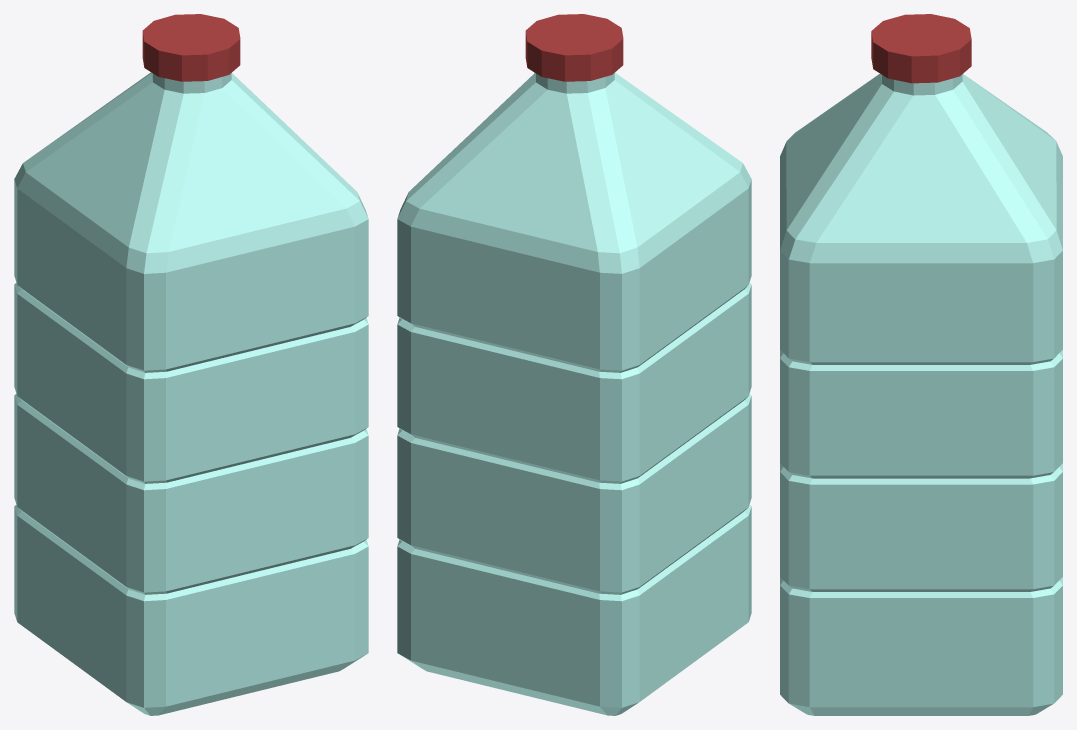
The model's file is plastic_1.glb.
3 views of the same model, side by side, from view 1: azimuth 30°, elevation 25°; view 2: azimuth 150°, elevation 25°; view 3: azimuth 270°, elevation 25° (orthographic). The views are drawn at different scales.
Parts seen in each view (by area): view 1: 1; view 2: 1; view 3: 1.
Part boxes in pixels (bbox=[...]): 1: bbox=[14, 14, 368, 715]; 1: bbox=[397, 14, 751, 715]; 1: bbox=[780, 14, 1062, 715].
Size of what is drawn, in the model's own units: 0.3804 by 0.9367 by 0.3804.
